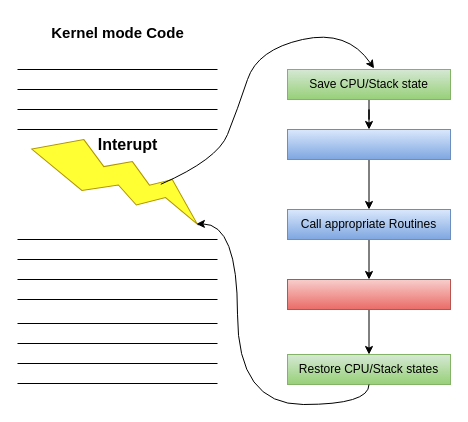
The diagram is 468 pixels wide and 422 high, and some of its shapes have lost their labels. Here are the shapes that lost their labels. From the top down, the box of each, then its label:
(286, 128, 450, 160): Mask equal or lower IRQL Interrupts
(286, 278, 450, 310): Routines execute
